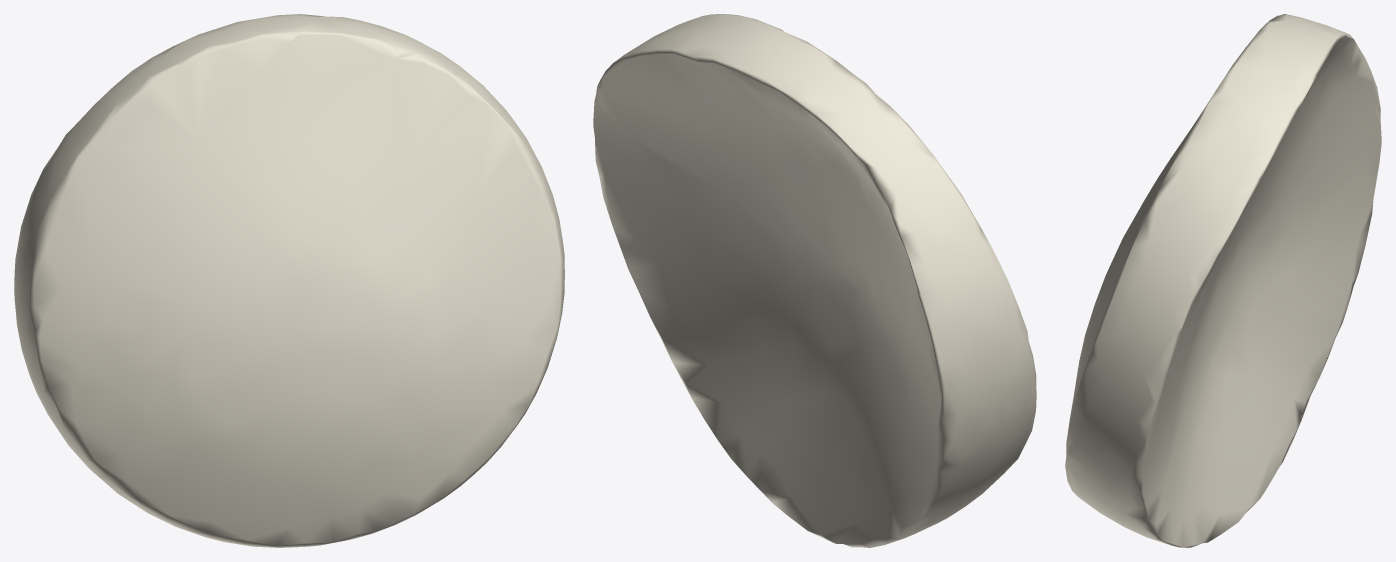
The model's file is fma54385_mm949.glb.
3 views of the same model, side by side, from view 1: azimuth 30°, elevation 25°; view 2: azimuth 150°, elevation 25°; view 3: azimuth 270°, elevation 25° (orthographic). The views are drawn at different scales.
Parts seen in each view (by area): view 1: FMA54385_MM949; view 2: FMA54385_MM949; view 3: FMA54385_MM949.
Boxes of the visible parts, x1,y1,x2,y2 form: FMA54385_MM949: (14,14,564,547); FMA54385_MM949: (593,14,1036,547); FMA54385_MM949: (1065,14,1381,547).
Bounding box in the file's own units: 0.0217 × 0.0214 × 0.0125.
